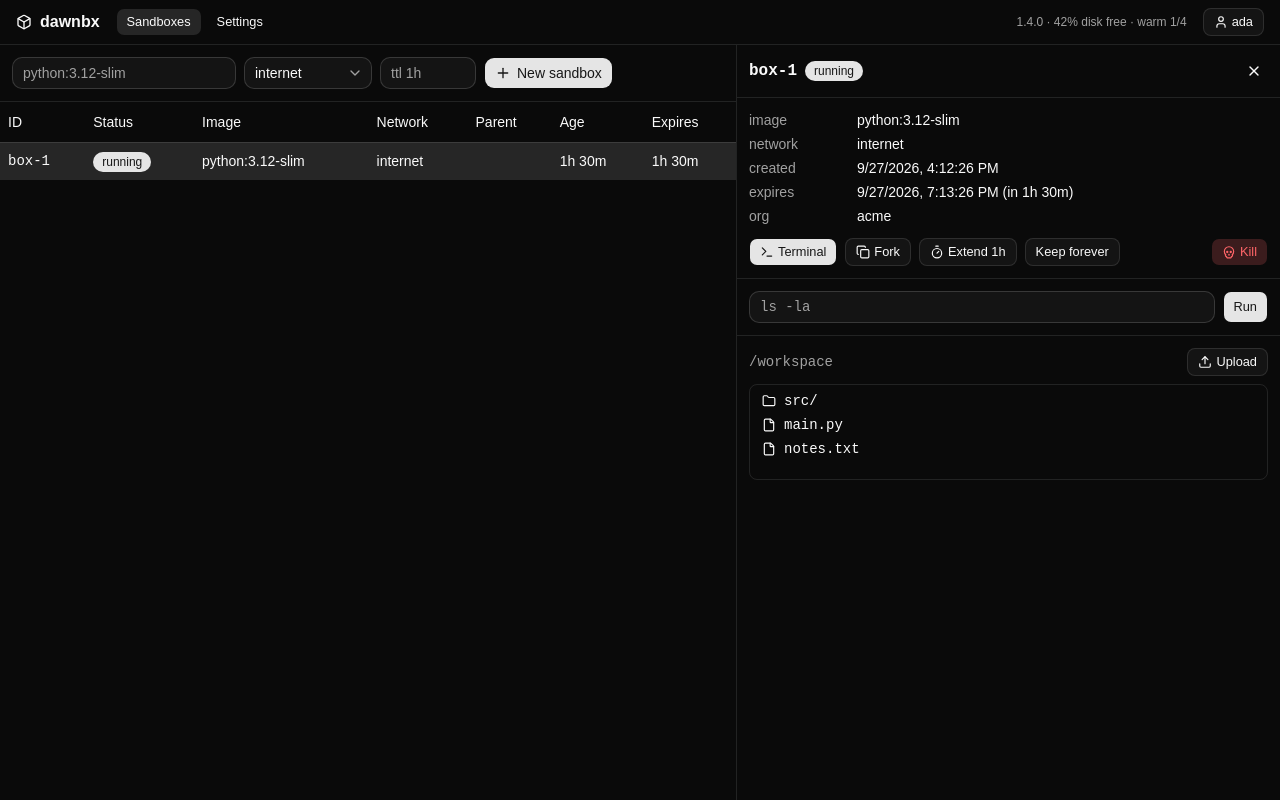
Test: File browser › lists /workspace and reads a file through the files API
The image size is (1280, 800).
Expected: the button "src/" is shown, [754,389,1263,413]
Expected: the text "/workspace" is shown, [749,352,833,372]
Click the button "main.py": (813, 425) [754,413,1263,437]
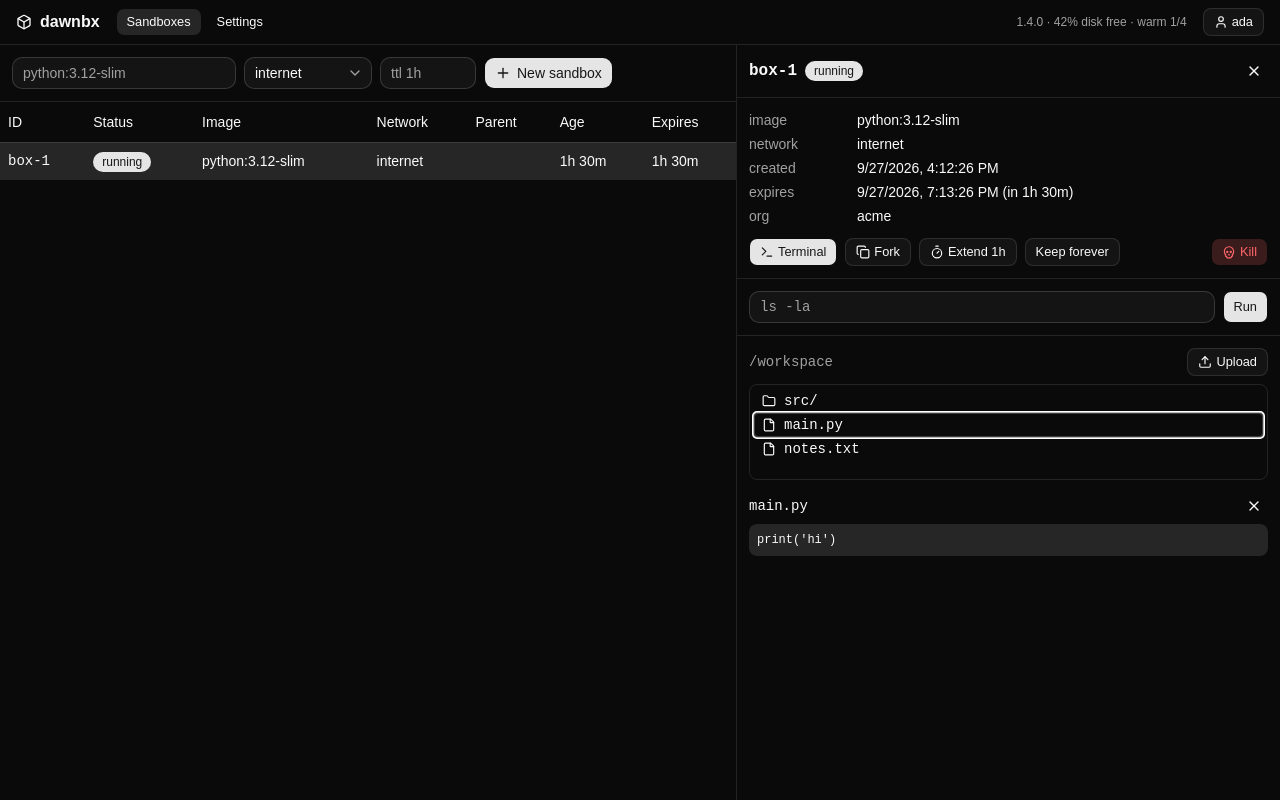
Expected: the text "print('hi')" is shown, [749,524,1268,556]
